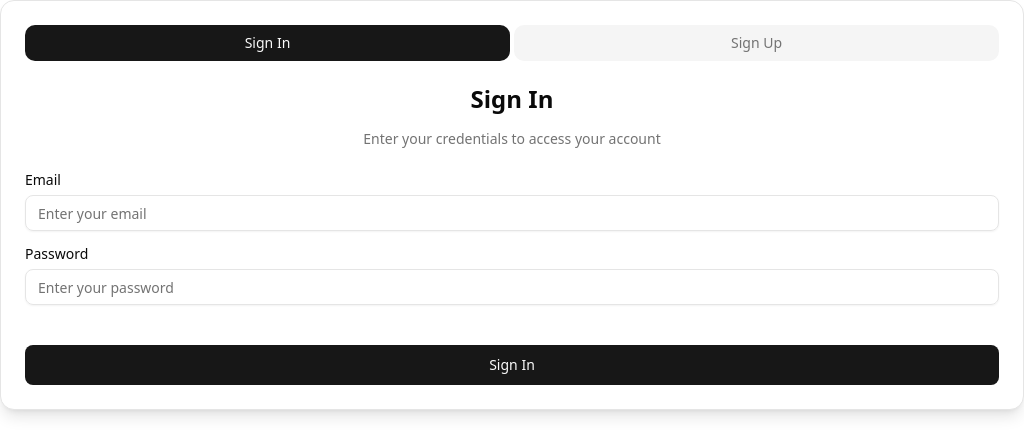
Test: AuthForm › shows loading state during registration
# Switch to register mode
Click the button "Sign Up": (756, 43) [514,25,999,61]
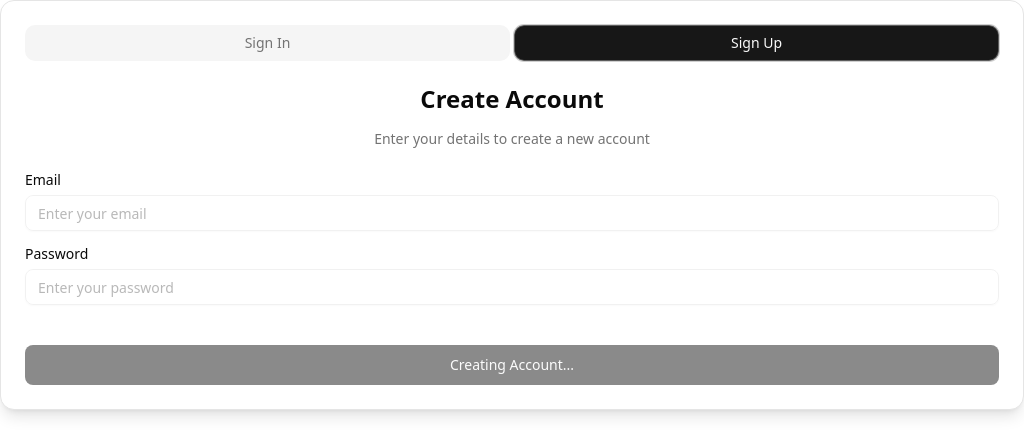
Expected: the button "Creating Account..." is shown, [25,345,999,385]
Expected: the field labelled "Email" is disabled, [25,195,999,231]
Expected: the password field labelled "Password" is disabled, [25,269,999,305]
